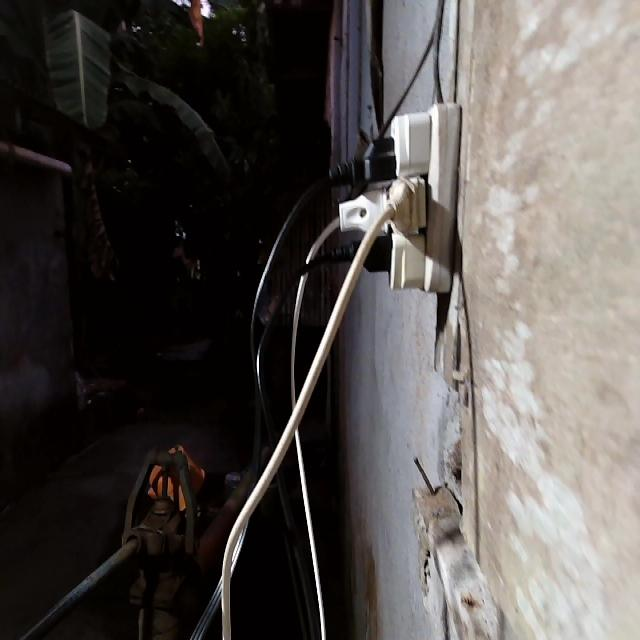-: (319, 101, 458, 292)
